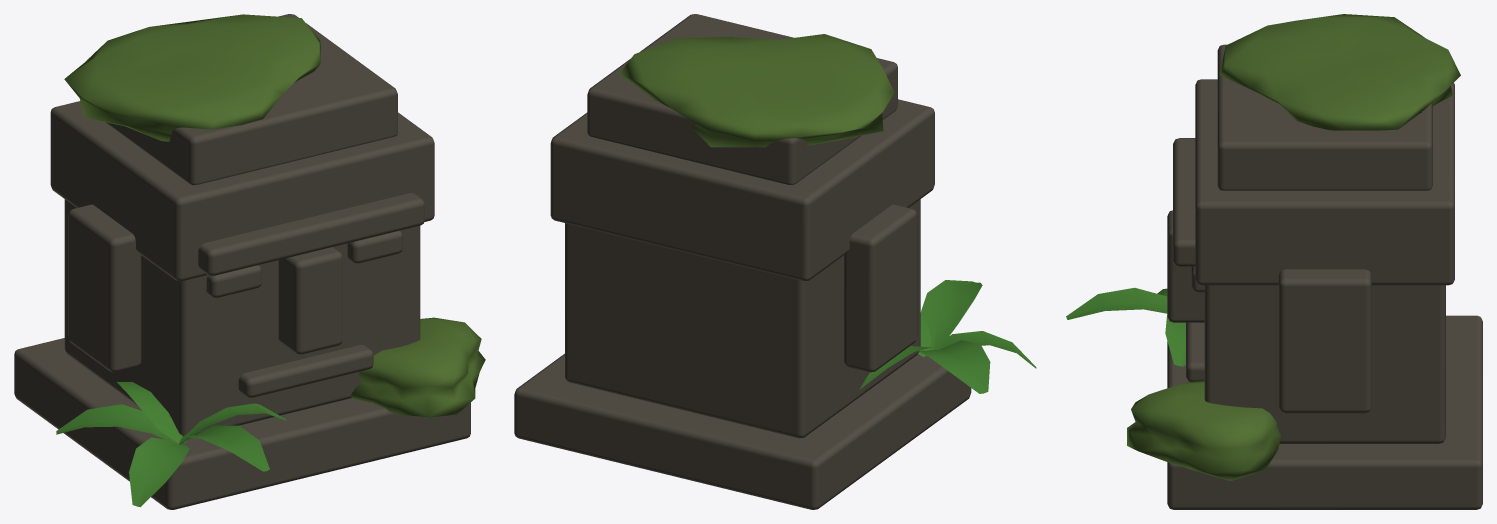
File: idol.glb
The picture shows the model from 3 angles, left to right: view 1: azimuth 30°, elevation 25°; view 2: azimuth 150°, elevation 25°; view 3: azimuth 270°, elevation 25°; orthographic projection.
Parts seen in each view (by area): view 1: ruin-stone, moss, leaf; view 2: ruin-stone, moss, leaf; view 3: ruin-stone, moss, leaf.
Boxes of the visible parts, x1,y1,x2,y2 form: ruin-stone: (14,14,470,509); moss: (64,14,485,417); leaf: (56,382,286,507); ruin-stone: (514,14,971,509); moss: (619,34,894,147); leaf: (859,280,1036,393); ruin-stone: (1167,44,1482,509); moss: (1127,14,1460,481); leaf: (1066,287,1185,366).
Bounding box in the file's own units: 2.51 × 2.18 × 2.25.
